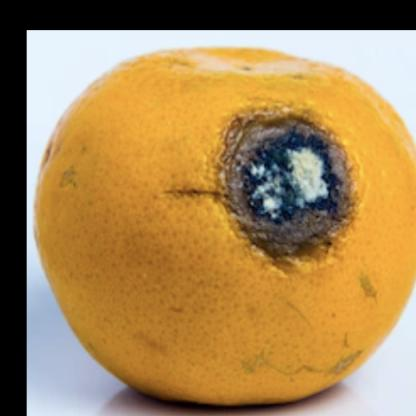rotten: (36, 48, 416, 412)
